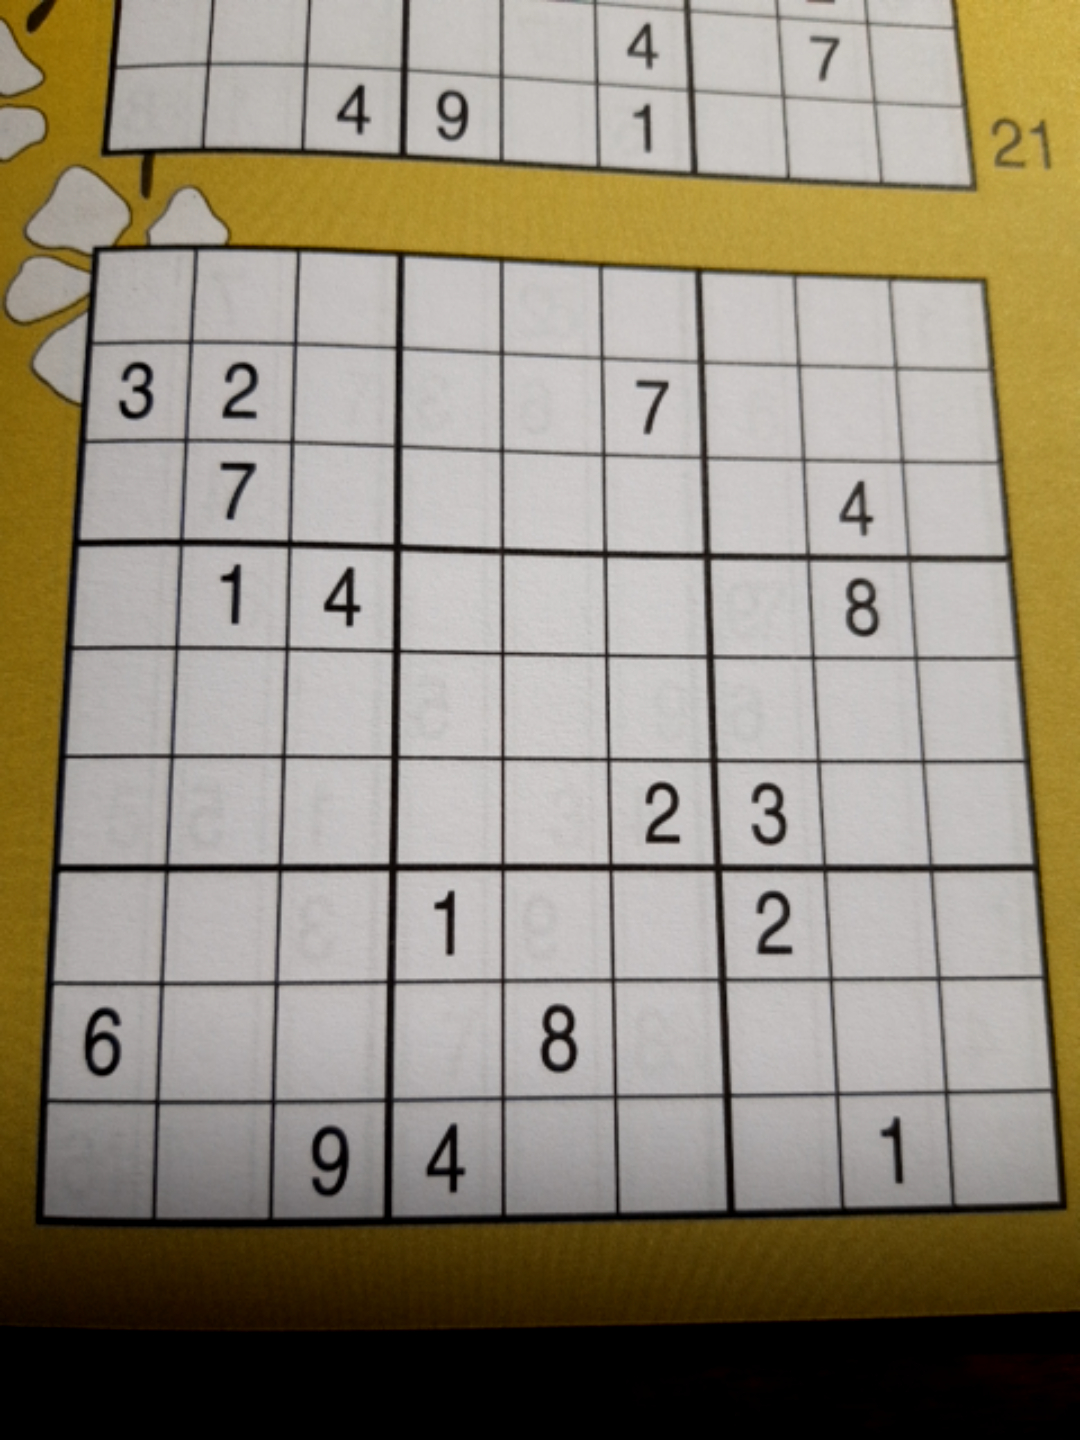sudoku: (27, 234, 1067, 1224)
